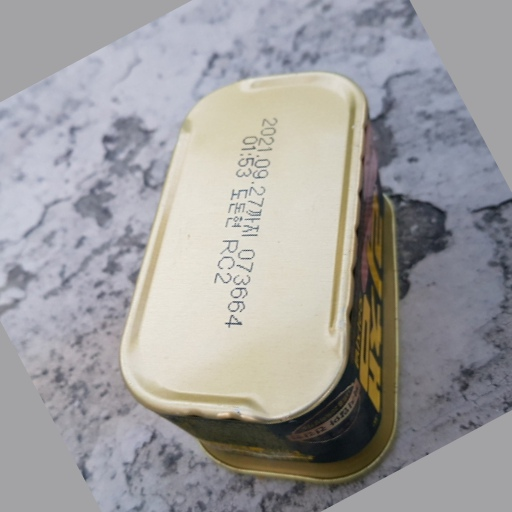Metal_2: (120, 70, 412, 481)
